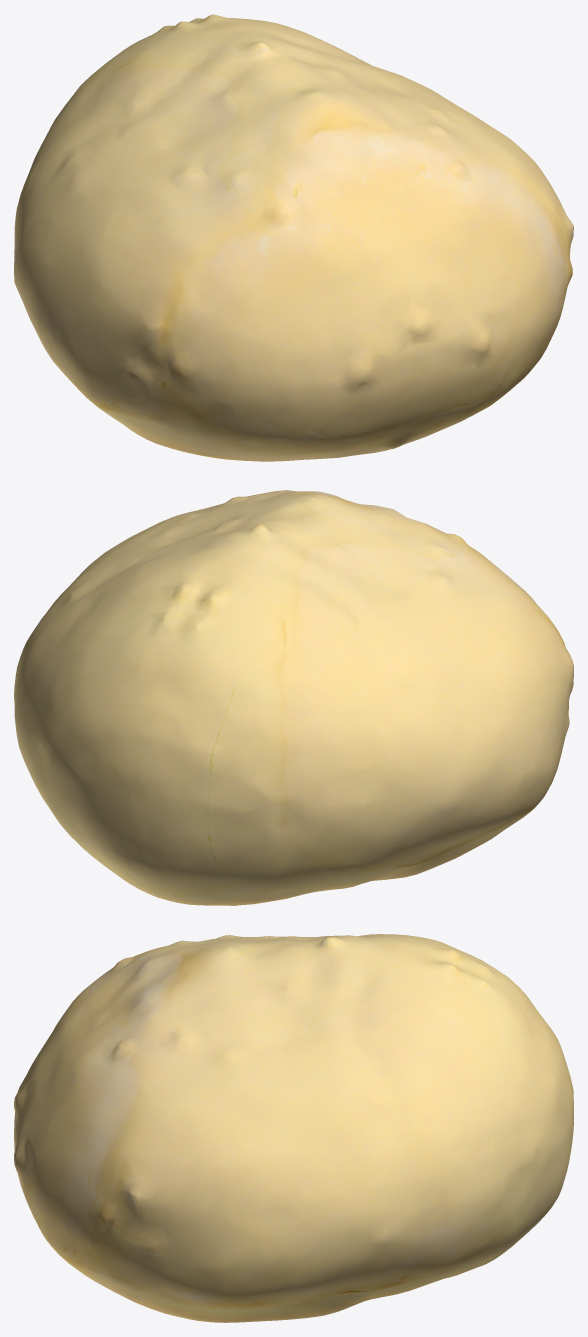
Rendered from dough.glb.
3 views of the same model, one above another, from view 1: azimuth 30°, elevation 25°; view 2: azimuth 150°, elevation 25°; view 3: azimuth 270°, elevation 25° (orthographic). The views are drawn at different scales.
Bounding box in the file's own units: 1.93 × 1.26 × 2.
Materials: 1 (1 with a texture image).
